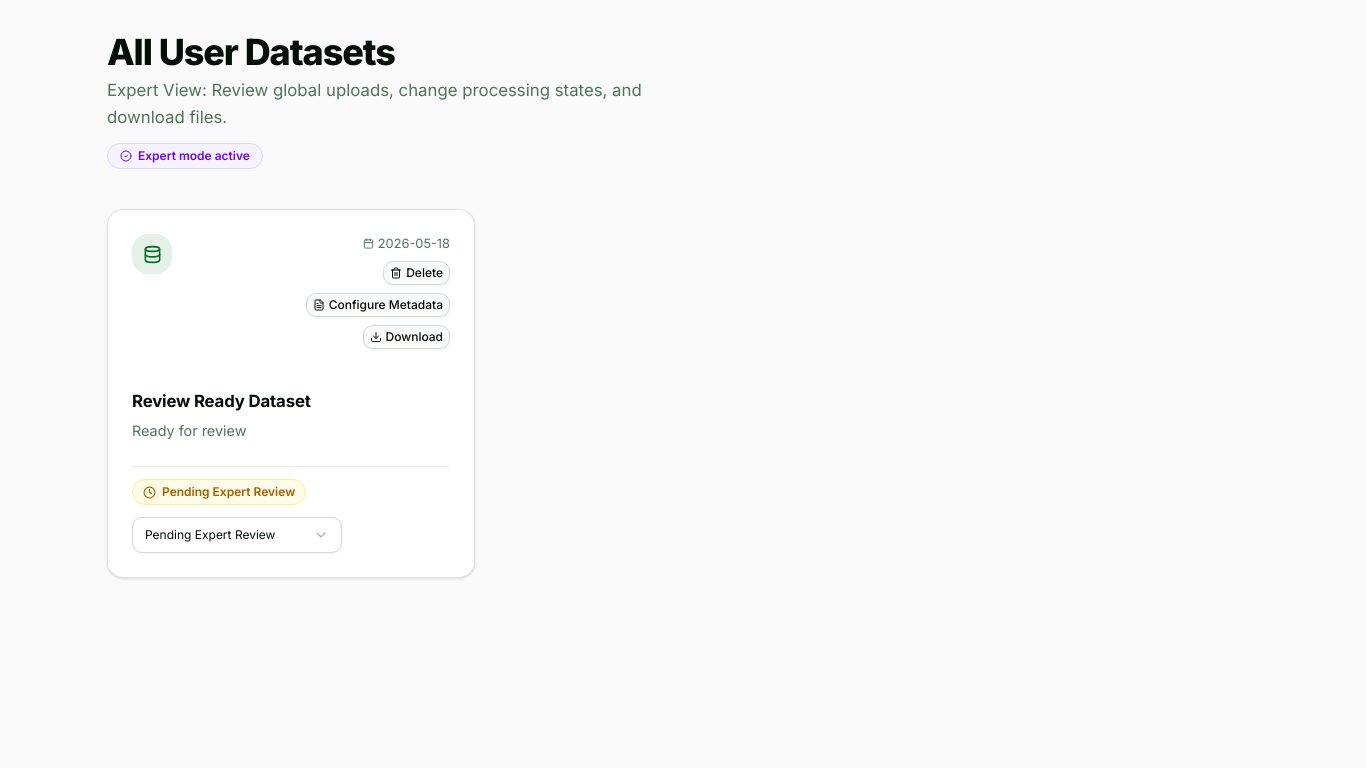
Test: MyDatasetsPage › rolls back optimistic status changes when the backend rejects the transition
Expected: the heading "Review Ready Dataset" is shown, [132,391,311,411]
Click the dropdown labelled "Pending Expert Review" at (237, 535), box [132,517,342,553]
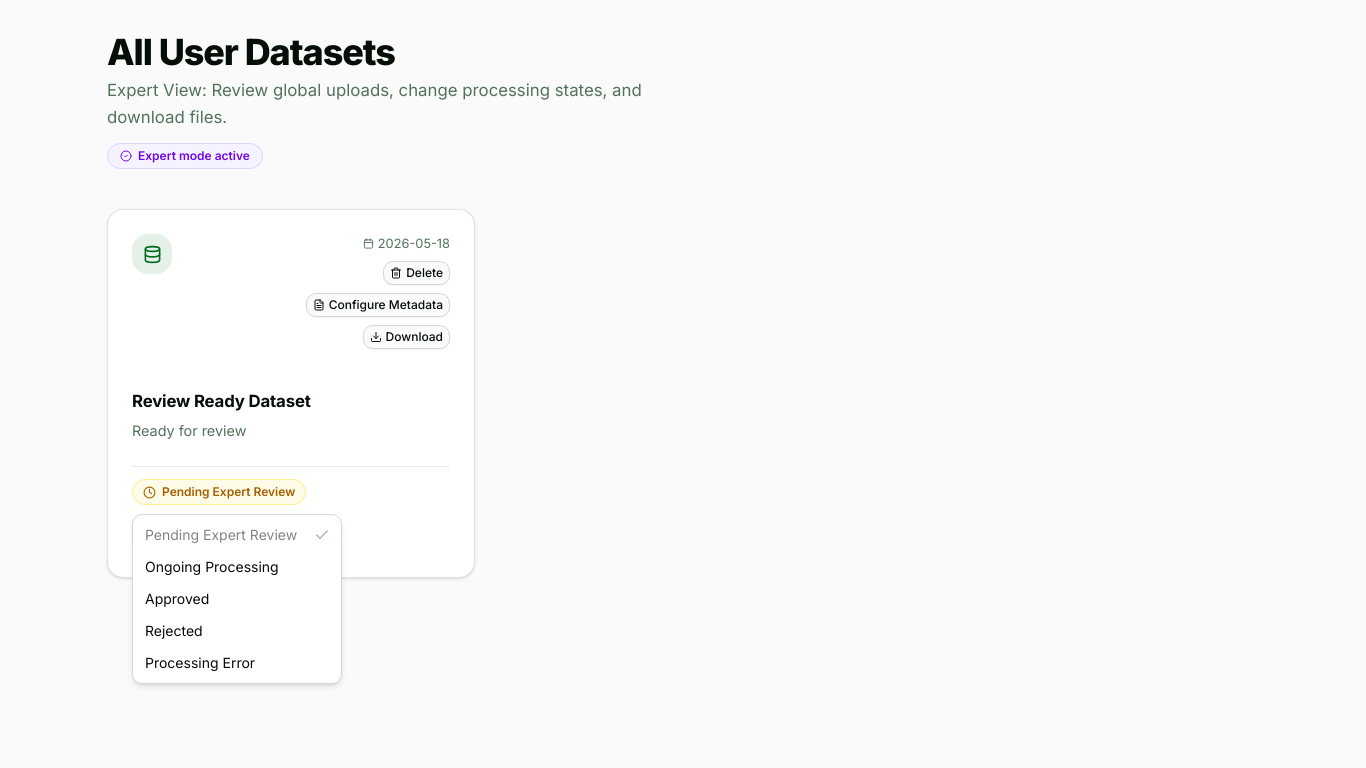
Click the option "Ongoing Processing" at (212, 567), box [145,558,279,575]
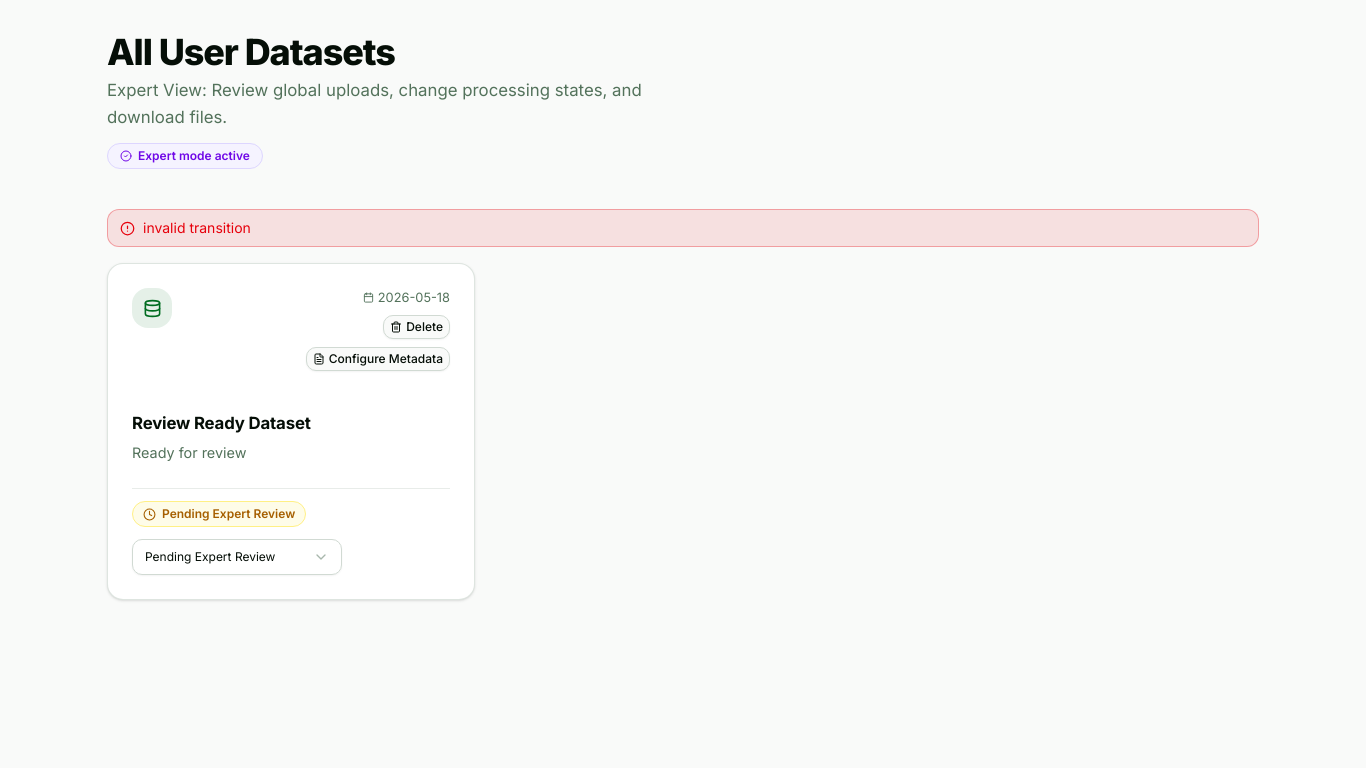
Expected: the dropdown labelled "Pending Expert Review" is shown, [132,539,342,575]
Expected: the text "invalid transition" is shown, [143,218,251,238]
